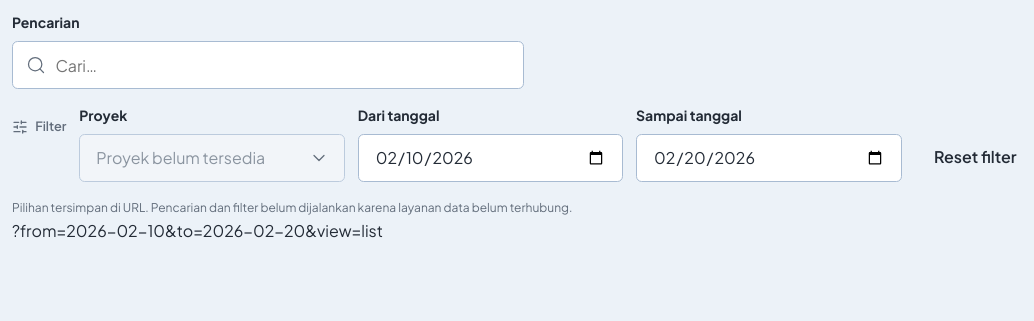
Test: Validasi lokal rentang tanggal FilterToolbar › memvalidasi perubahan kedua batas tanpa membuang nilai dan menerima tanggal yang sama
This screenshot has width=1034, height=321.
Type "2026-02-21" into the date field labelled "Dari tanggal" at (490, 158), box [358,134,623,182]
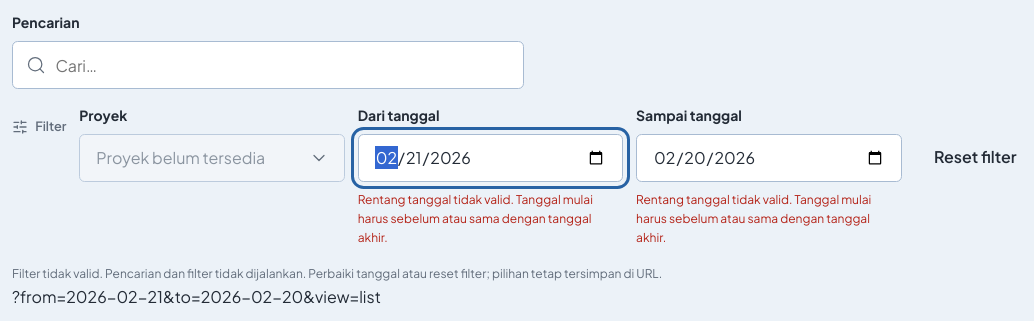
Expected: the 3rd message shows "Filter tidak valid. Pencarian dan filter tidak dijalankan.", [12,266,662,281]
Type "2026-02-21" into the date field labelled "Sampai tanggal" at (769, 158), box [636,134,902,182]
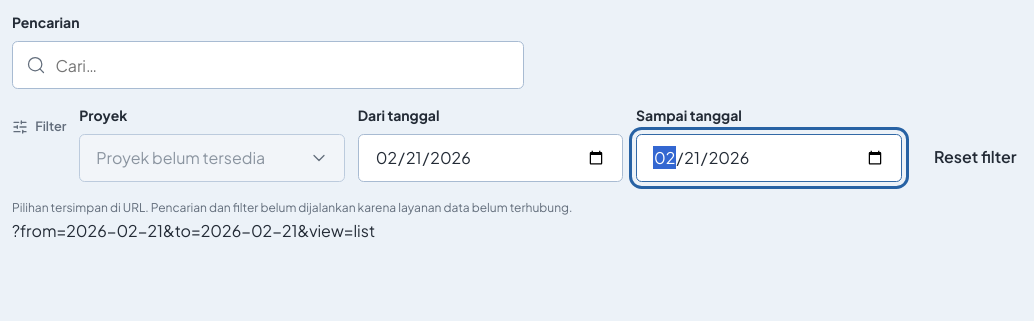
Expected: the message no longer shows "Filter tidak valid.", [12,200,572,215]
Type "2026-02-19" into the date field labelled "Sampai tanggal" at (769, 158), box [636,134,902,182]
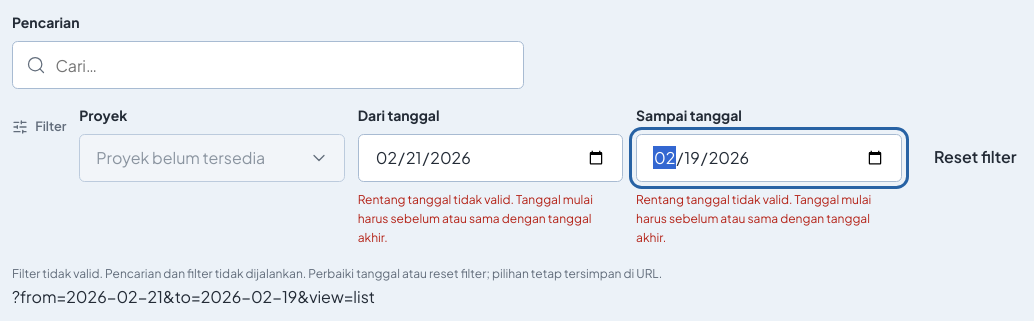
Expected: the 3rd message shows "Filter tidak valid. Pencarian dan filter tidak dijalankan.", [12,266,662,281]
Type "2026-02-18" into the date field labelled "Dari tanggal" at (490, 158), box [358,134,623,182]
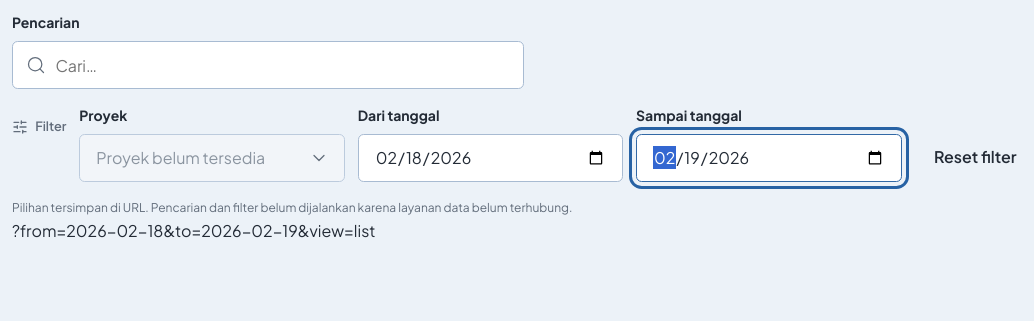
Expected: the message no longer shows "Filter tidak valid.", [12,200,572,215]
Expected: the message shows "Pencarian dan filter belum dijalankan karena layanan data belum terhubung.", [12,200,572,215]
